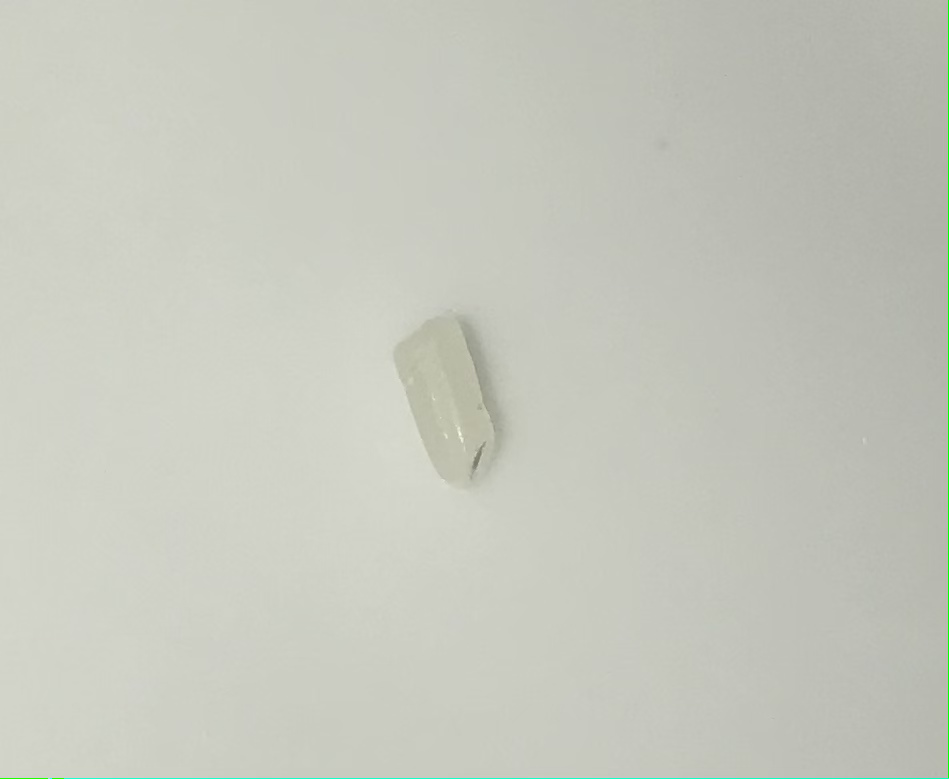Gao Tam: (349, 293, 539, 506)
